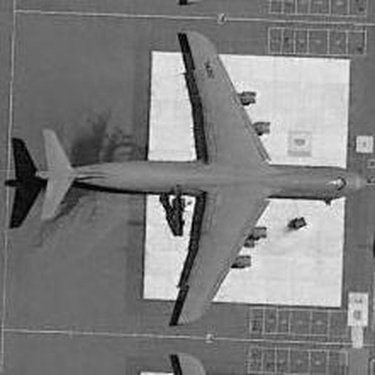airplane: (22, 20, 367, 330), (156, 337, 199, 371)
